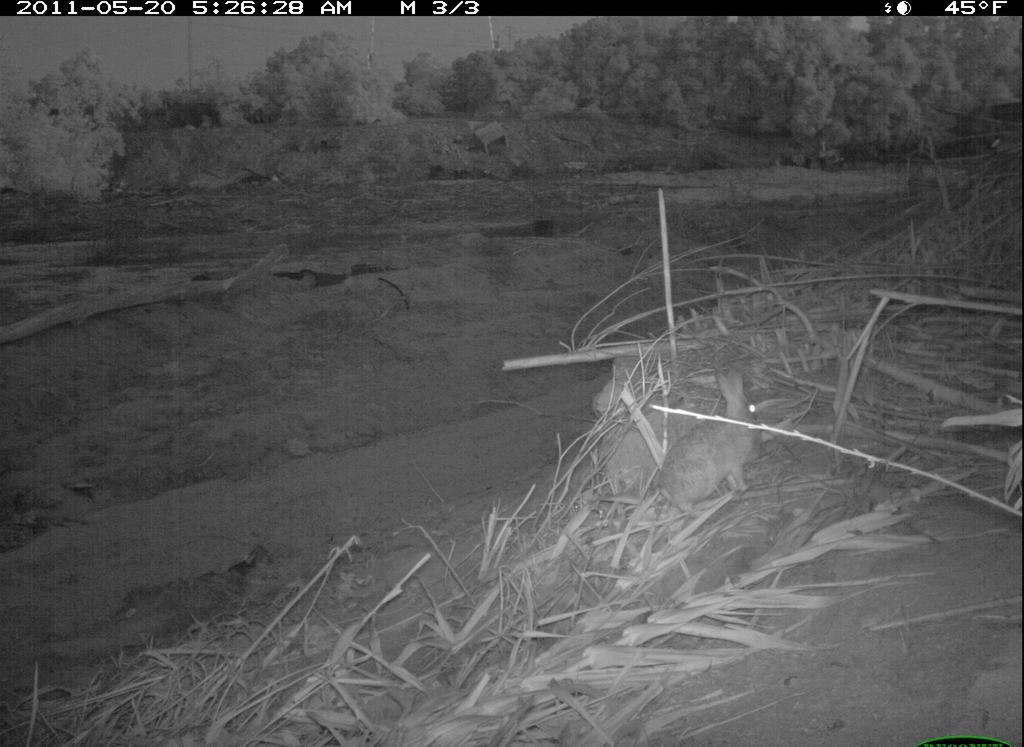rabbit: (656, 360, 777, 525)
